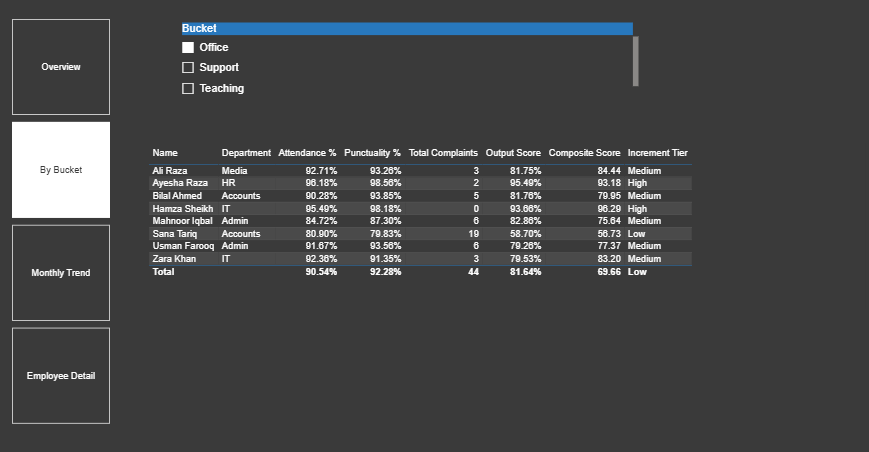

The dashboard page shown, as its layout file describes it:
{"tool":"powerbi","page":{"name":"By Bucket","canvas":[1280,720],"ordinal":1},"visuals":[{"type":"slicer","fields":{"Values":["Employees.Bucket"]},"box":[251.7,70,670,113.3],"z":0},{"type":"tableEx","fields":{"Values":["Employees.Name","Employees.Department","Employees.Attendance %","Employees.Punctuality %","Employees.Total Complaints","Employees.Output Score","Employees.Composite Score","Employees.Increment Tier"]},"box":[211.4,247.1,1028.6,425.7],"z":1000},{"type":"pageNavigator","box":[21.7,70,140,578.3],"z":2000}]}

Visuals, with their boxes on the page's 1280x720 design canvas (x1, y1, x2, y2). These are canvas units, not pixel positions in the 869x452 screenshot, which may show the page scaled, cropped or inside an application window:
slicer - Employees.Bucket: bbox(252, 70, 922, 183)
tableEx - Employees.Name x Employees.Department: bbox(211, 247, 1240, 673)
pageNavigator: bbox(22, 70, 162, 648)
